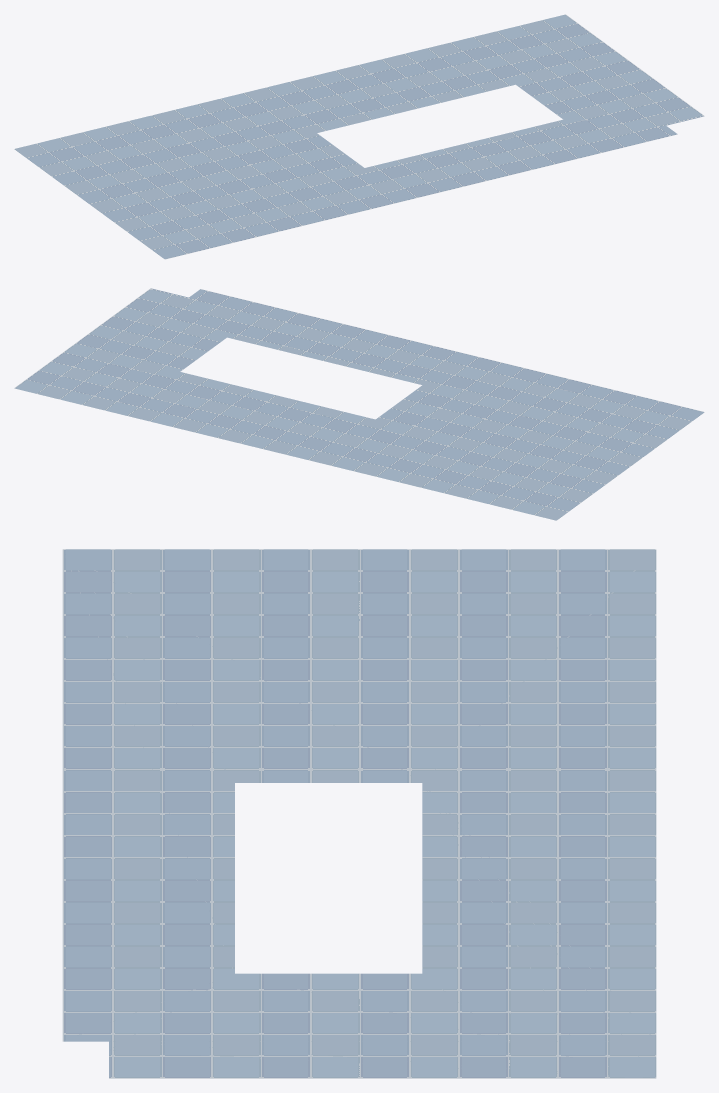
File: kd_stage_135ded_4_27_exterior_piece_2.glb
The picture shows the model from 3 angles, top to bottom: view 1: azimuth 30°, elevation 25°; view 2: azimuth 150°, elevation 25°; view 3: azimuth 270°, elevation 25°; orthographic projection. The views are drawn at different scales.
Parts seen in each view (by area): view 1: kd_stage_135ded_4_27_exterior_piece_2; view 2: kd_stage_135ded_4_27_exterior_piece_2; view 3: kd_stage_135ded_4_27_exterior_piece_2.
Part boxes in pixels (<box>): kd_stage_135ded_4_27_exterior_piece_2: <box>14,14,704,259</box>; kd_stage_135ded_4_27_exterior_piece_2: <box>14,288,704,520</box>; kd_stage_135ded_4_27_exterior_piece_2: <box>62,549,656,1078</box>.
Bounding box in the file's own units: 2.01 × 5.96e-08 × 0.9508.
Materials: 1 (1 with a texture image).
